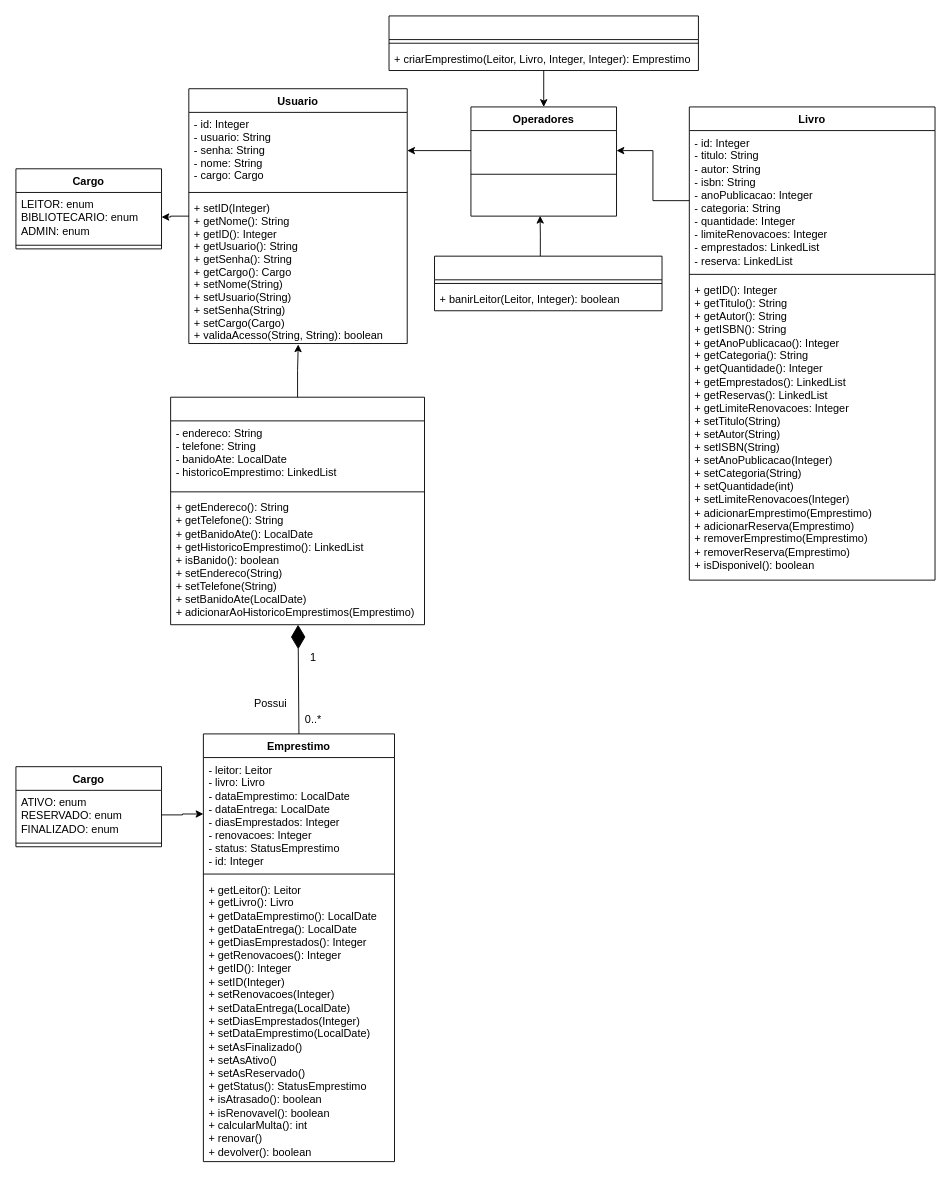
This 951x1180 diagram has some shape labels left out. The box of each missing label's shape, as (x1, y1, x2, y2) in pixels:
Admin: (434, 255, 662, 311)
Bibliotecario: (388, 15, 698, 71)
Leitor: (170, 396, 425, 625)
